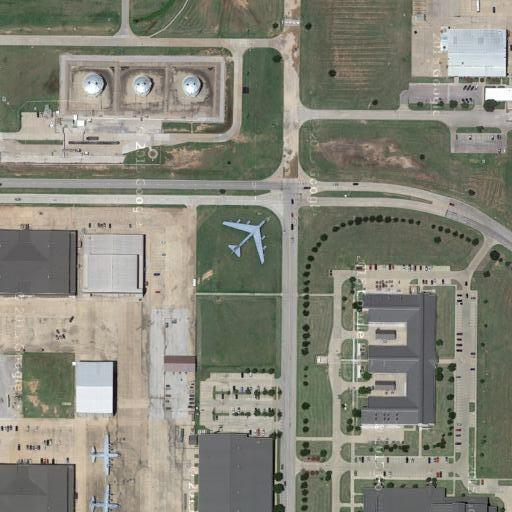B-52: (217, 215, 272, 266)
C-130: (88, 432, 123, 480), (85, 478, 121, 512)
